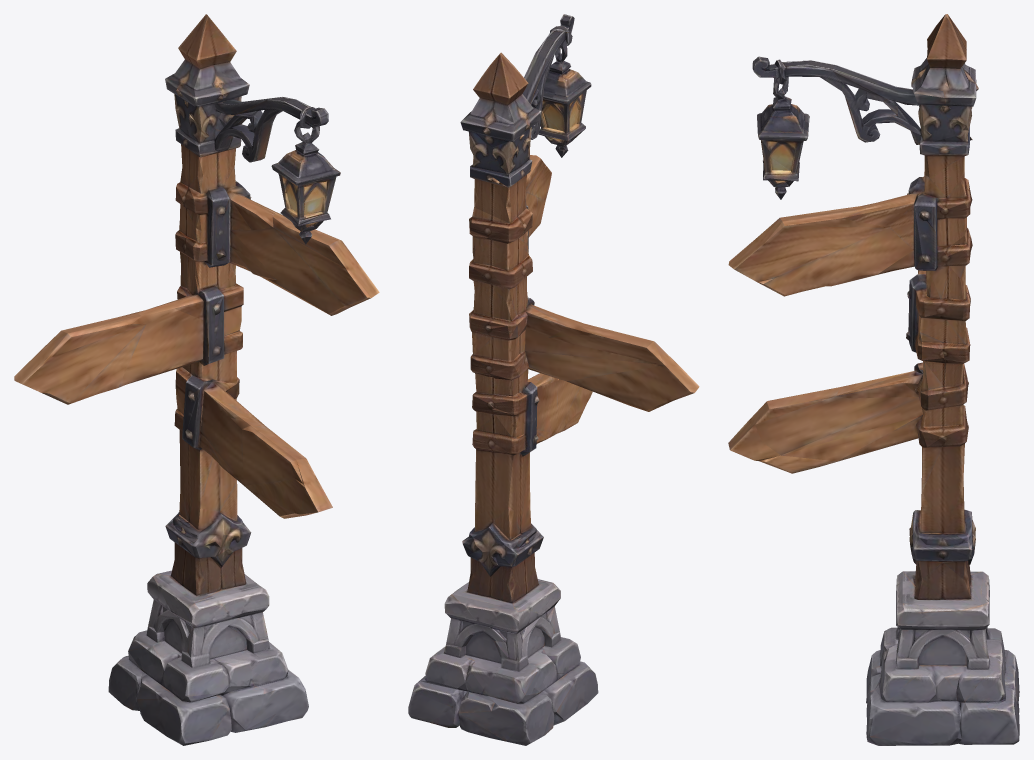
File: town_signpost.glb
3 renders of one model, left to right at view 1: azimuth 30°, elevation 25°; view 2: azimuth 150°, elevation 25°; view 3: azimuth 270°, elevation 25°, orthographic. The views are drawn at different scales.
Visible parts, largest first — view 1: output_unwrapped; view 2: output_unwrapped; view 3: output_unwrapped.
Boxes of the visible parts, x1,y1,x2,y2 form: output_unwrapped: (14,14,379,745); output_unwrapped: (408,14,699,745); output_unwrapped: (728,14,1019,745).
Size of the model in its own units: 0.7695 by 1.9 by 0.7175.
1 material, 1 textured.
